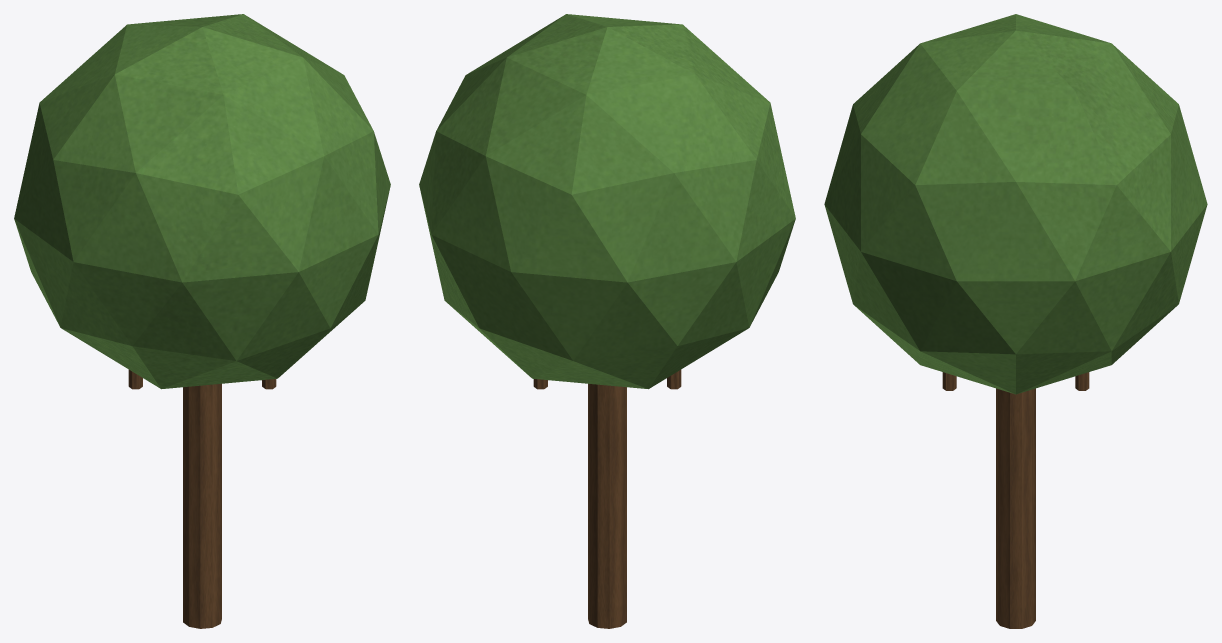
The model's file is tree_birch.fbx.
3 views of the same model, side by side, from view 1: azimuth 30°, elevation 25°; view 2: azimuth 150°, elevation 25°; view 3: azimuth 270°, elevation 25° (orthographic).
Visible parts, largest first — view 1: crown, trunk.001; view 2: crown, trunk.001; view 3: crown, trunk.001.
Boxes of the visible parts, x1=… form: crown: x1=14, y1=14, x2=390, y2=389; trunk.001: x1=183, y1=383, x2=221, y2=628; crown: x1=419, y1=14, x2=795, y2=389; trunk.001: x1=588, y1=383, x2=626, y2=628; crown: x1=824, y1=14, x2=1207, y2=394; trunk.001: x1=996, y1=388, x2=1035, y2=628.
Size of the model in its own units: 514 by 918 by 540.
